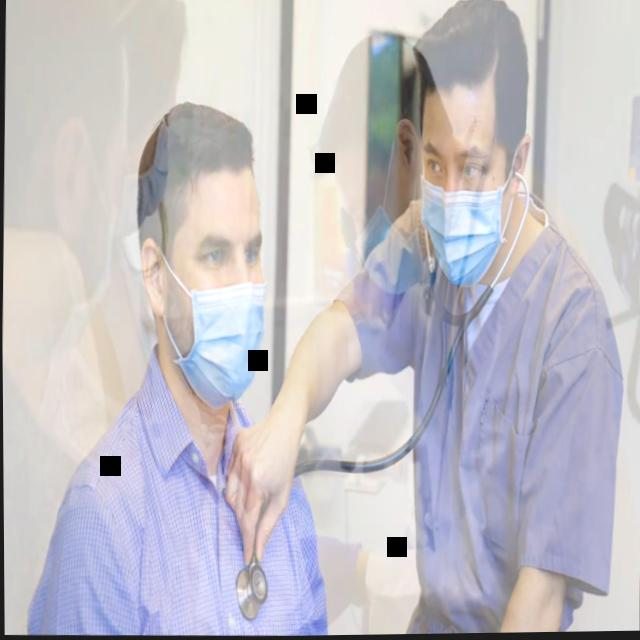Mask: (153, 160, 269, 413), (51, 44, 130, 352), (417, 84, 513, 292), (332, 149, 427, 295), (121, 71, 177, 235)
